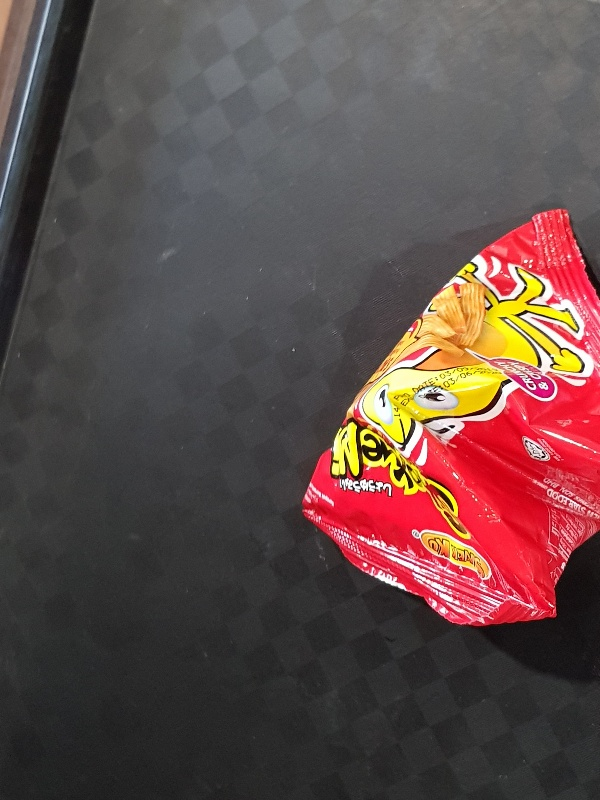ShoyueMi Spicy Flavoured Snacks: (297, 205, 600, 632)
